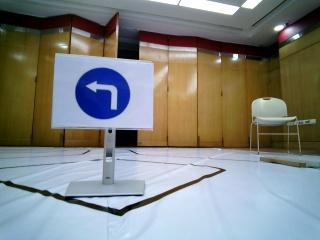left: (65, 62, 151, 129)
